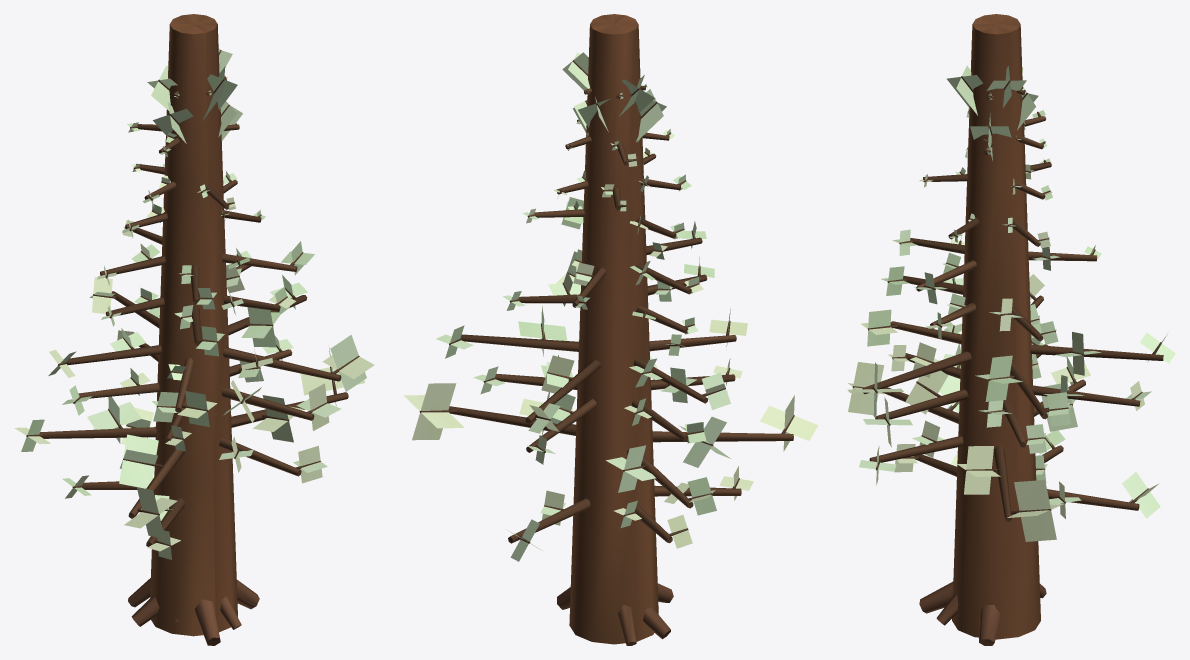
The model's file is mature-lod1.glb.
The picture shows the model from 3 angles, left to right: view 1: azimuth 30°, elevation 25°; view 2: azimuth 150°, elevation 25°; view 3: azimuth 270°, elevation 25°; orthographic projection.
Parts seen in each view (by area): view 1: pine-trunk-branches-buried-roots-ground-blend, pine-terminal-needle-sprigs; view 2: pine-trunk-branches-buried-roots-ground-blend, pine-terminal-needle-sprigs; view 3: pine-trunk-branches-buried-roots-ground-blend, pine-terminal-needle-sprigs.
Boxes of the visible parts, x1,y1,x2,y2 form: pine-trunk-branches-buried-roots-ground-blend: (26, 14, 359, 645); pine-terminal-needle-sprigs: (14, 48, 374, 559); pine-trunk-branches-buried-roots-ground-blend: (419, 14, 794, 645); pine-terminal-needle-sprigs: (403, 52, 818, 561); pine-trunk-branches-buried-roots-ground-blend: (852, 14, 1163, 645); pine-terminal-needle-sprigs: (847, 65, 1175, 541).
Bounding box in the file's own units: 13.94 × 24.32 × 12.13.
